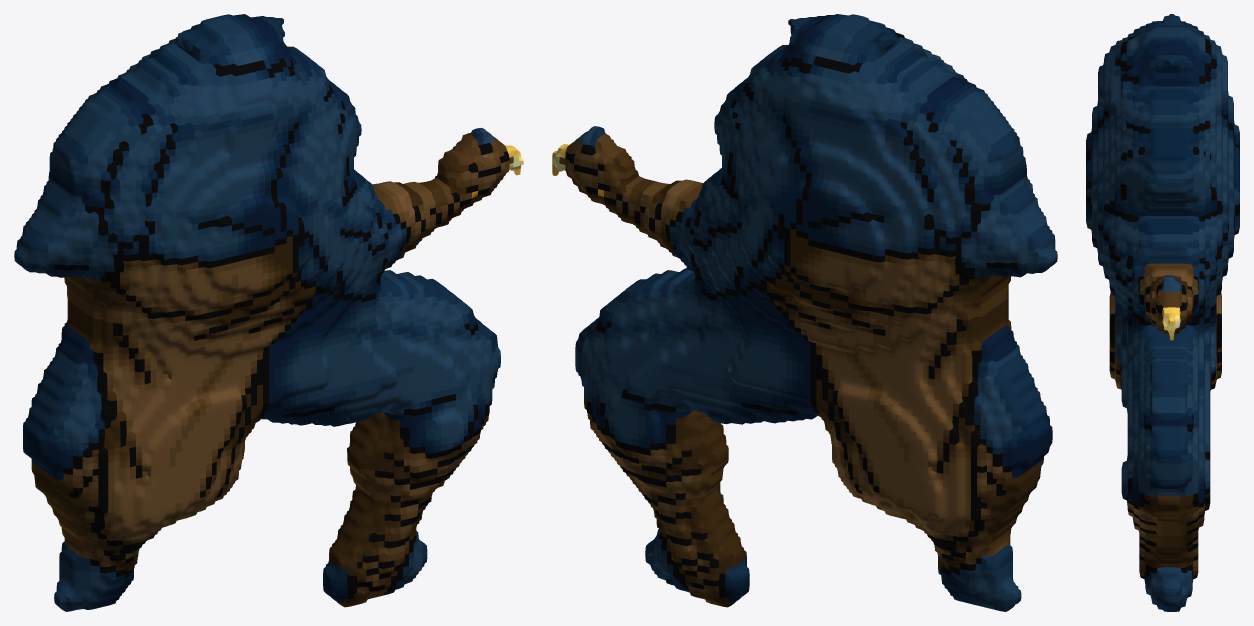
File: Fight_705_2_09.obj
3 renders of one model, left to right at view 1: azimuth 30°, elevation 25°; view 2: azimuth 150°, elevation 25°; view 3: azimuth 270°, elevation 25°, orthographic. The views are drawn at different scales.
Size of the model in its own units: 8.29 by 9.6 by 2.6.
1 material, 1 textured.
